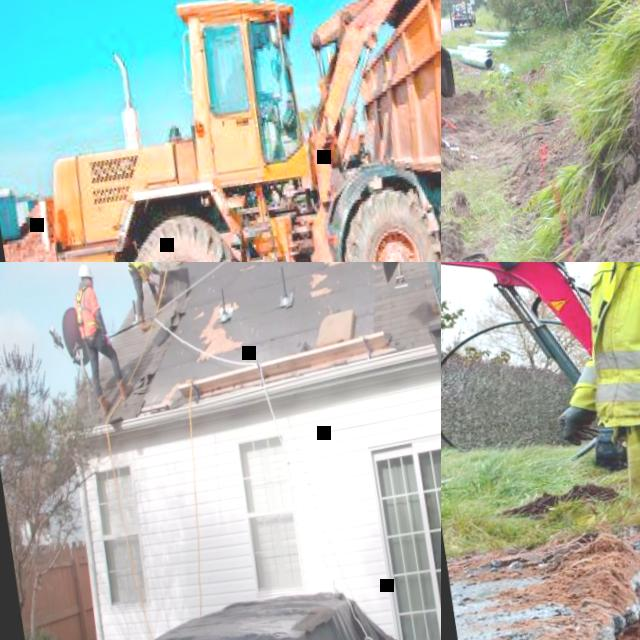Hardhat: (78, 263, 95, 280)
NO-Mask: (85, 278, 94, 288)
Person: (510, 262, 640, 640), (67, 262, 139, 416), (122, 262, 174, 334), (224, 50, 274, 115)
Safety Vest: (563, 262, 640, 433), (582, 262, 640, 423), (73, 286, 102, 338), (126, 262, 156, 282)
vehicle: (0, 0, 441, 262), (441, 262, 640, 504), (322, 0, 441, 262), (441, 0, 516, 262), (451, 0, 478, 30)
